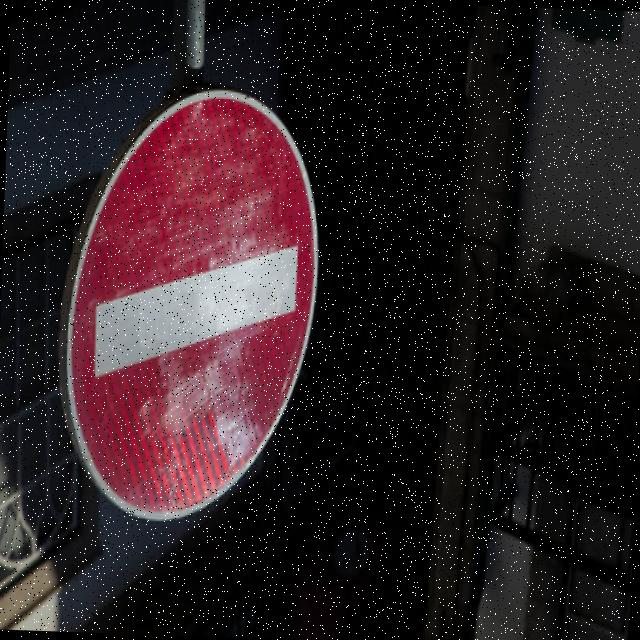do_not_enter: (46, 86, 347, 533)
